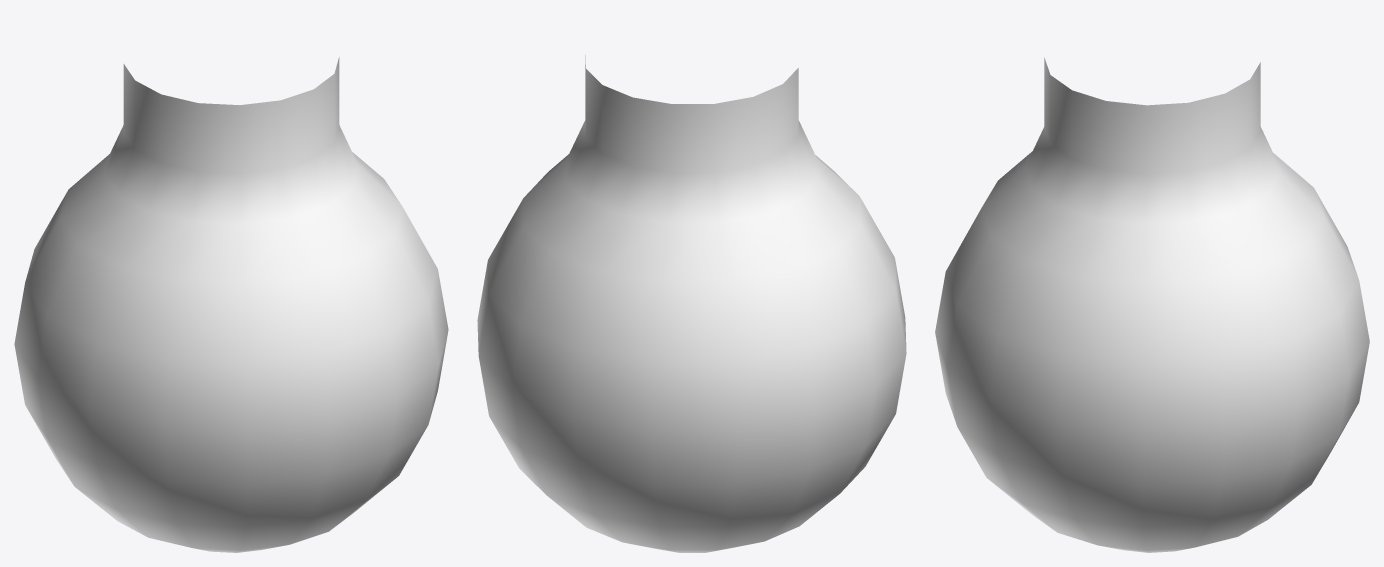
File: PBR - Metallic Roughness.glb
The picture shows the model from 3 angles, left to right: view 1: azimuth 30°, elevation 25°; view 2: azimuth 150°, elevation 25°; view 3: azimuth 270°, elevation 25°; orthographic projection.
Visible parts, largest first — view 1: polySurface3; view 2: polySurface3; view 3: polySurface3.
Boxes of the visible parts, x1,y1,x2,y2 form: polySurface3: [14, 57, 448, 552]; polySurface3: [477, 55, 906, 552]; polySurface3: [935, 57, 1369, 552].
Size of the model in its own units: 0.0711 by 0.0856 by 0.0711.
Materials: 1 (1 with a texture image).
